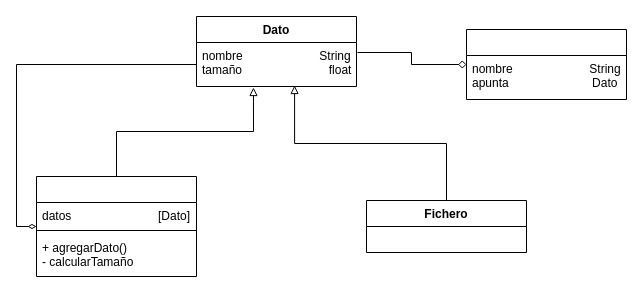
Image size: 643x293. Some labels were removed from this diagram. The box of each missing label's shape, as (x1, y1, x2, y2) in pixels:
Directorio: (36, 176, 196, 276)
Link: (466, 28, 626, 100)
